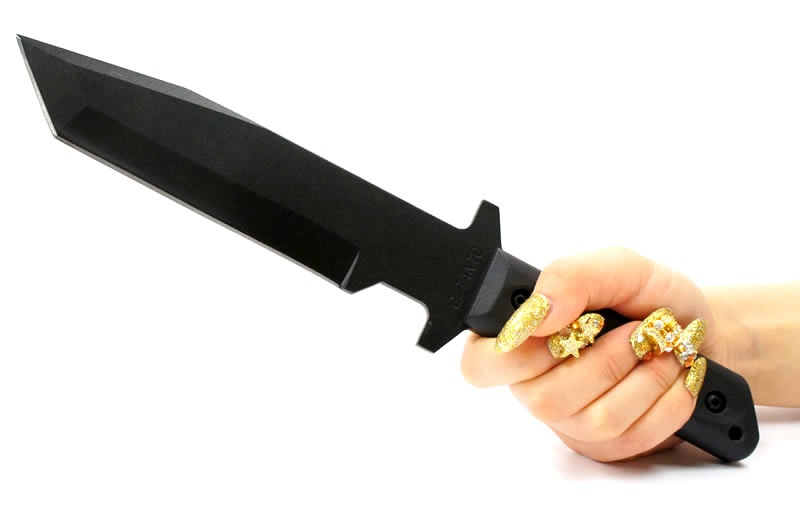knife: (1, 24, 634, 407)
